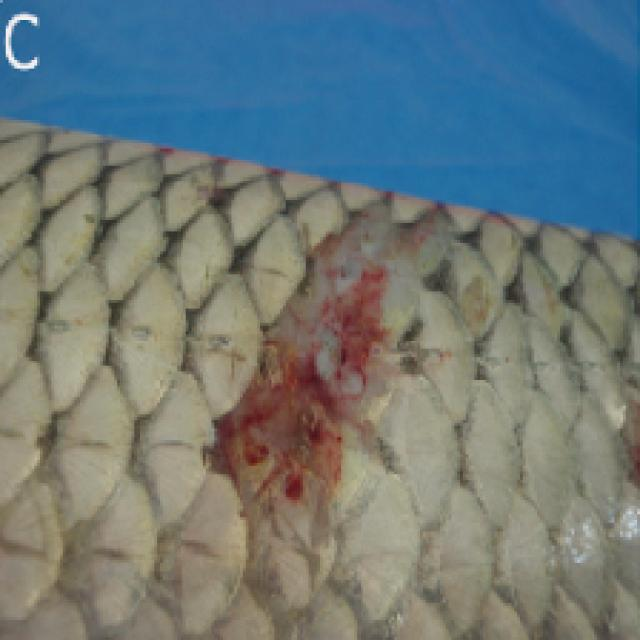bacterial_red: (205, 235, 390, 510)
